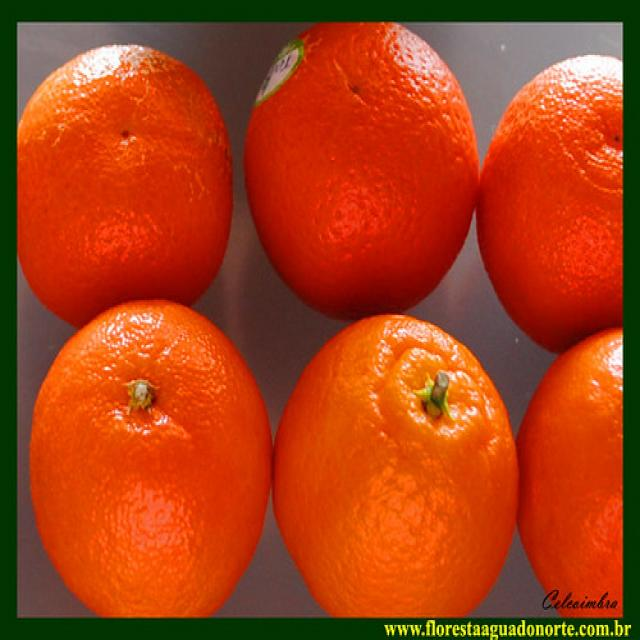Orange: (19, 300, 273, 616), (268, 313, 518, 622), (243, 26, 476, 318), (16, 40, 240, 324), (474, 53, 640, 354), (518, 326, 622, 614)
